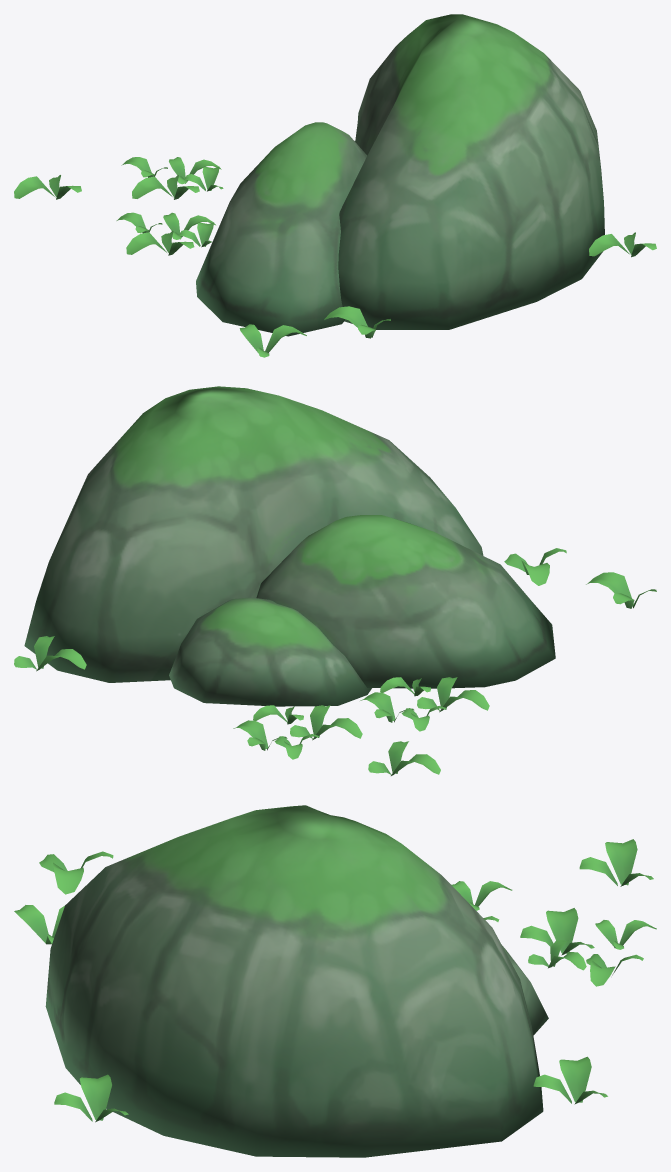
File: Stone_01.fbx
3 views of the same model, one above another, from view 1: azimuth 30°, elevation 25°; view 2: azimuth 150°, elevation 25°; view 3: azimuth 270°, elevation 25° (orthographic). The views are drawn at different scales.
Parts seen in each view (by area): view 1: Stone_01; view 2: Stone_01; view 3: Stone_01.
Boxes of the visible parts, bbox=[...] form: Stone_01: bbox=[14, 14, 656, 357]; Stone_01: bbox=[14, 386, 656, 775]; Stone_01: bbox=[14, 805, 656, 1157].
Size of the model in its own units: 950 by 417 by 906.
